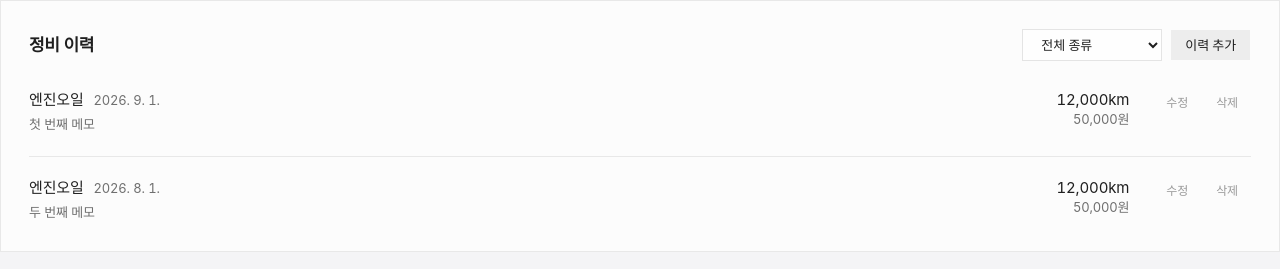
Scenario: MaintenanceSection › 지운 뒤 재조회가 실패해도 지운 행은 화면에서 빠진다
Check: the text "두 번째 메모" is shown, box [29,204,95,220]
Click the button "삭제" in the row of "2026. 8. 1." at (1227, 190), box [1203,176,1251,204]
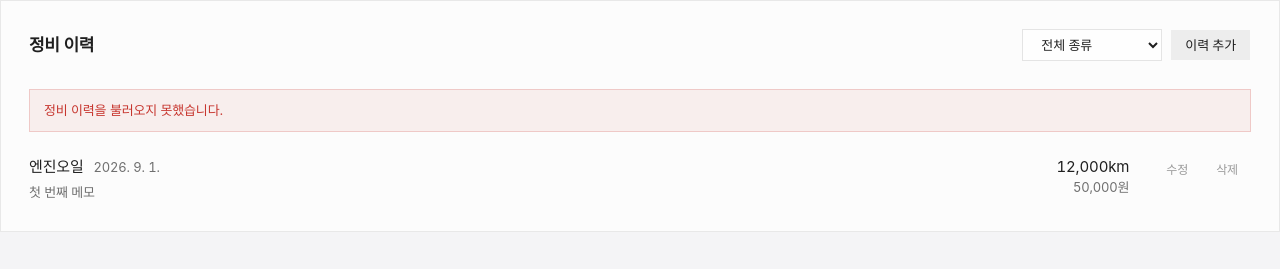
Check: the text "첫 번째 메모" is shown, box [29,184,95,200]
Check: the text "두 번째 메모" is gone
